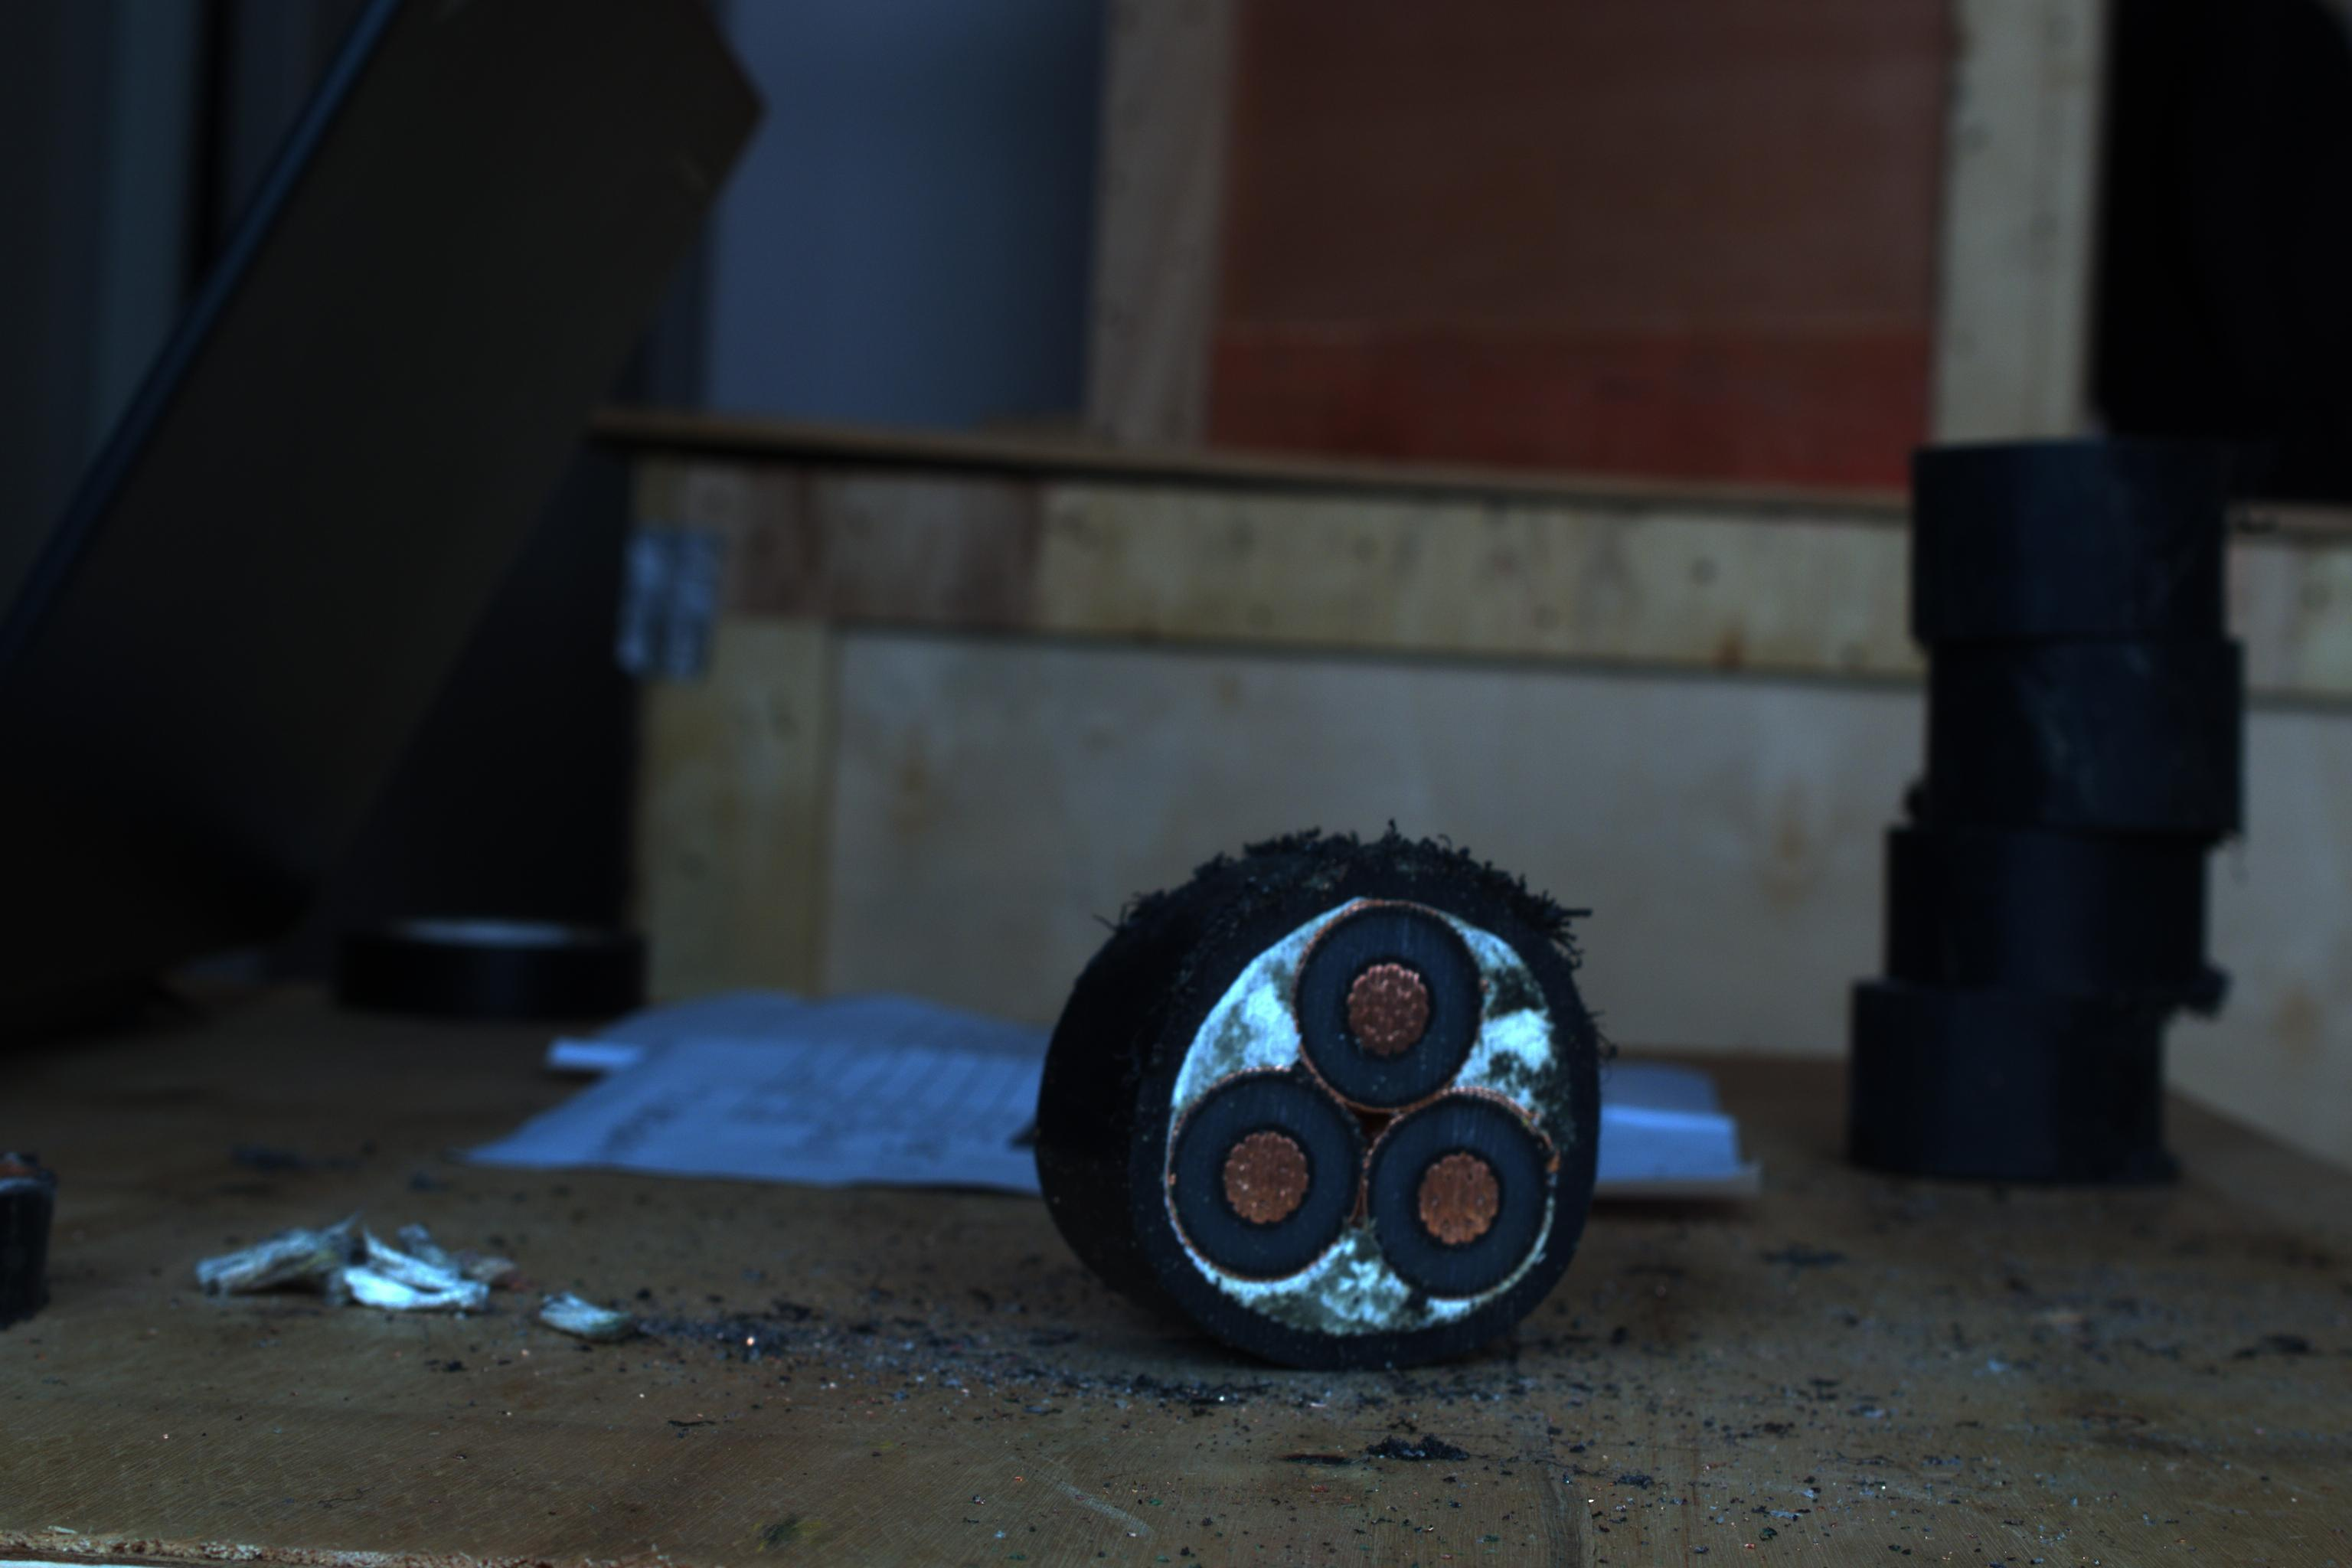YJV_8.7_10kV_3x70: (1080, 850, 1589, 1347)
